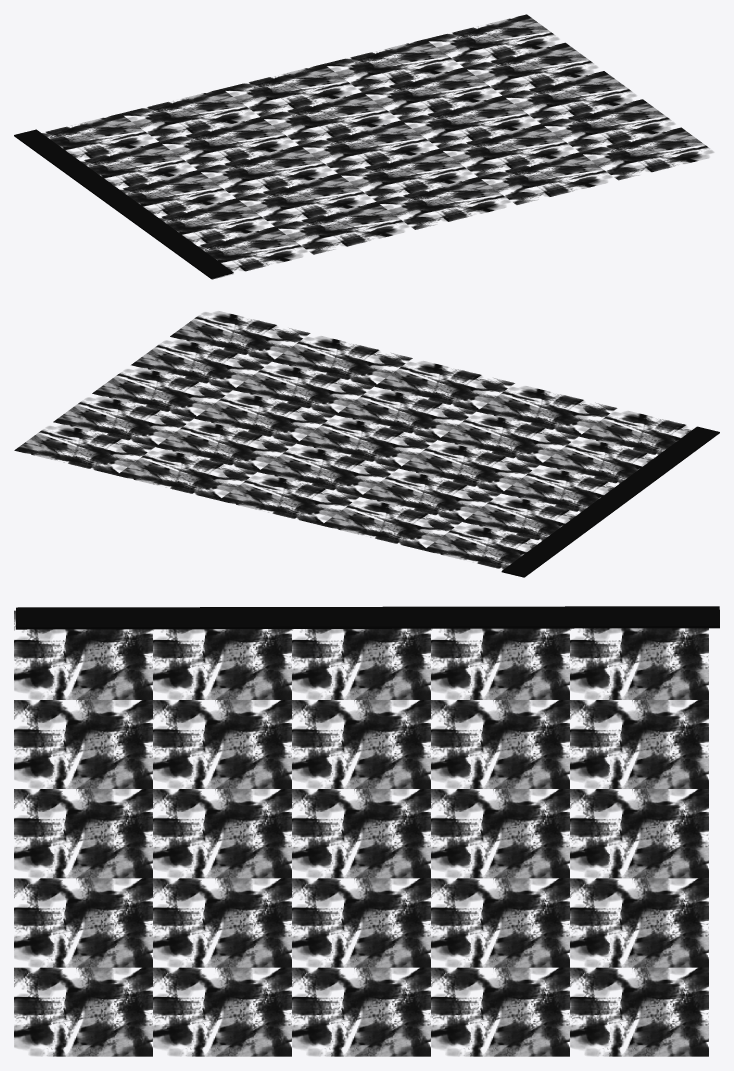
The model's file is floorreal.glb.
3 views of the same model, one above another, from view 1: azimuth 30°, elevation 25°; view 2: azimuth 150°, elevation 25°; view 3: azimuth 270°, elevation 25° (orthographic). The views are drawn at different scales.
Parts seen in each view (by area): view 1: Plan, Cube.029; view 2: Plan, Cube.029; view 3: Plan, Cube.029.
Boxes of the visible parts, x1,y1,x2,y2 form: Plan: (42, 14, 713, 279); Cube.029: (14, 129, 233, 278); Plan: (14, 311, 691, 569); Cube.029: (501, 426, 719, 577); Plan: (14, 610, 708, 1056); Cube.029: (16, 606, 719, 629).
Size of the model in its own units: 14.07 by 0.0412 by 9.38.
Materials: 2 (1 with a texture image).
